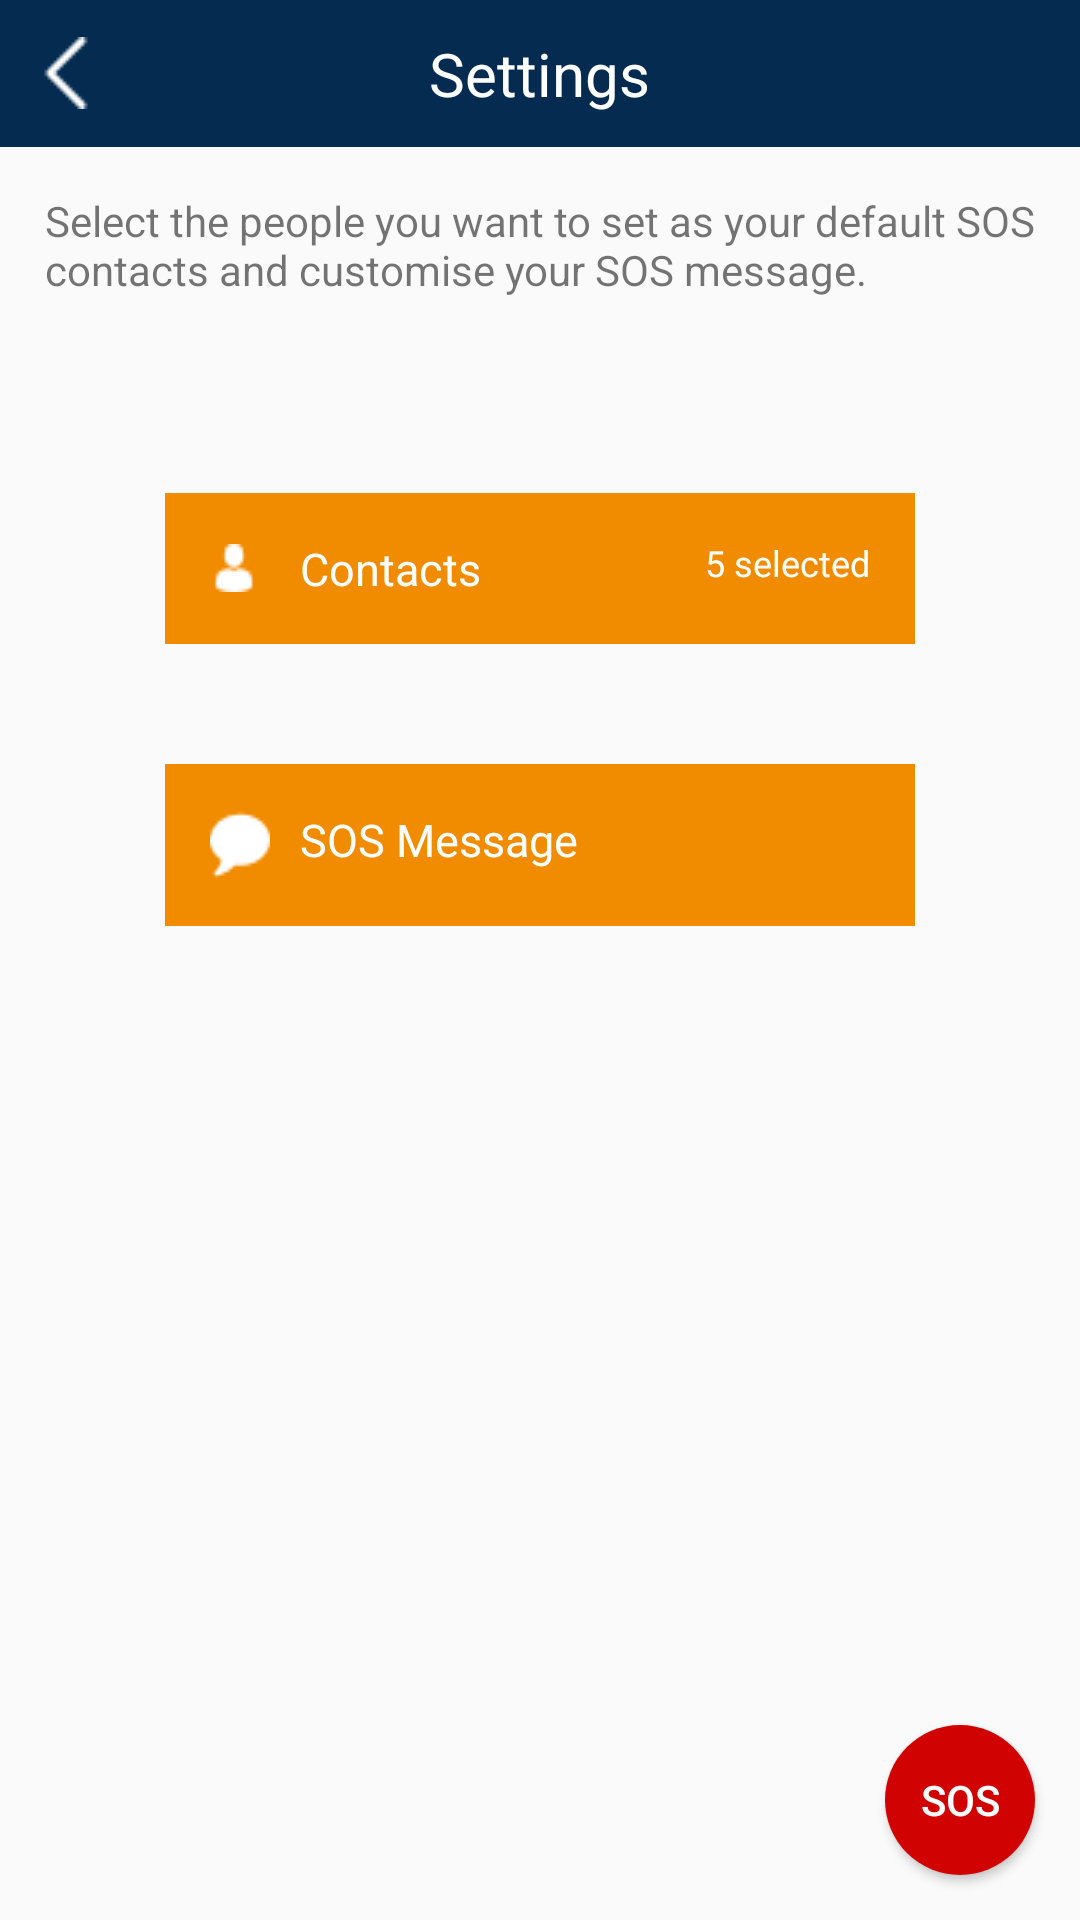

Icon bounding boxes for this 1080x1920 phone screenshot, format (x1, y1, x2, y2):
back: (44, 37, 88, 109)
userwhite: (215, 544, 253, 592)
